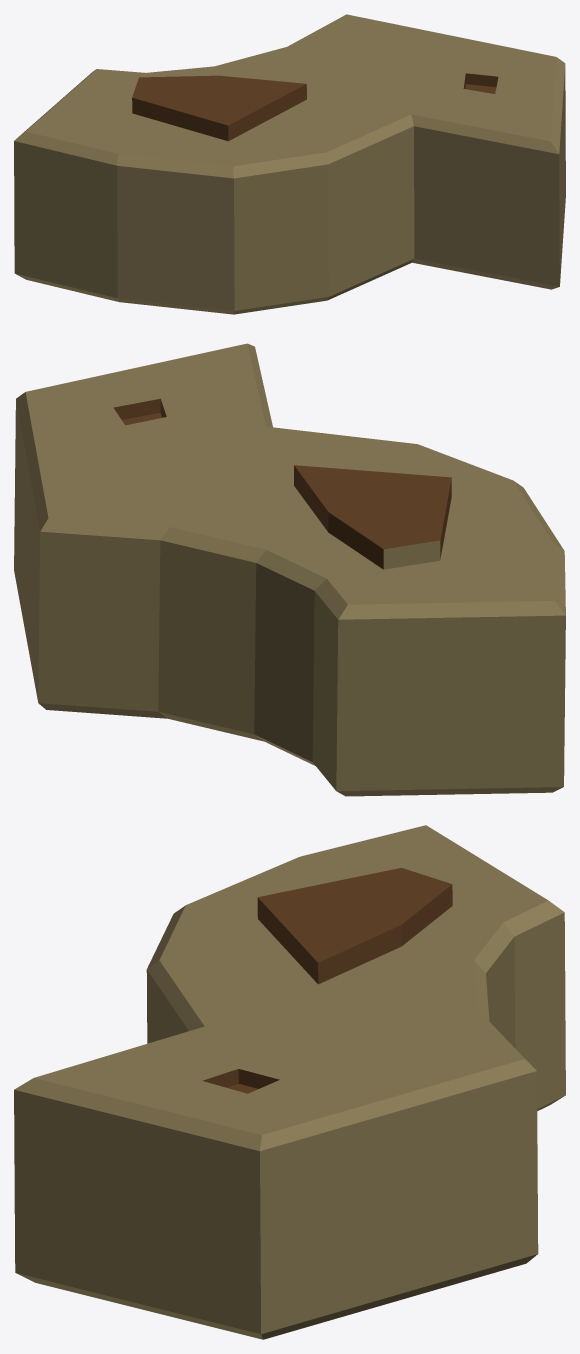
3 renders of one model, top to bottom at view 1: azimuth 30°, elevation 25°; view 2: azimuth 150°, elevation 25°; view 3: azimuth 270°, elevation 25°, orthographic. The views are drawn at different scales.
Visible parts, largest first — view 1: Plane.052; view 2: Plane.052; view 3: Plane.052.
Part boxes in pixels (x1,y1,x2,y2): Plane.052: (14, 14, 565, 314); Plane.052: (14, 343, 565, 796); Plane.052: (14, 825, 565, 1339).
Bounding box in the file's own units: 36.07 × 50.67 × 18.4.
